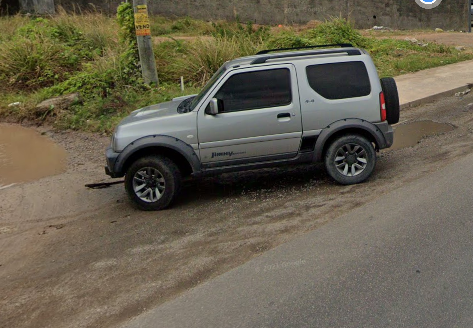car: (103, 41, 401, 212)
